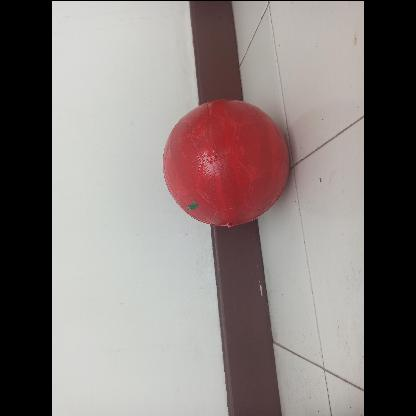red_ball: (162, 96, 288, 222)
